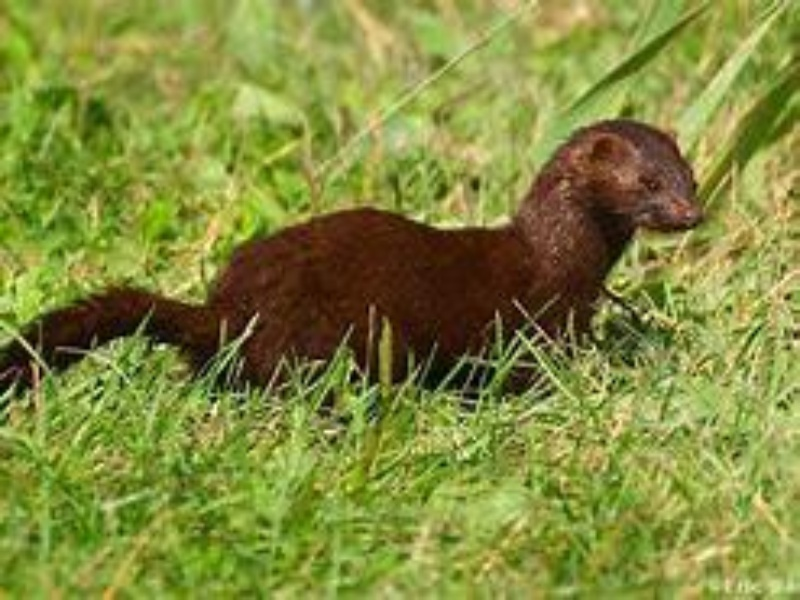minkish: (5, 113, 705, 415)
